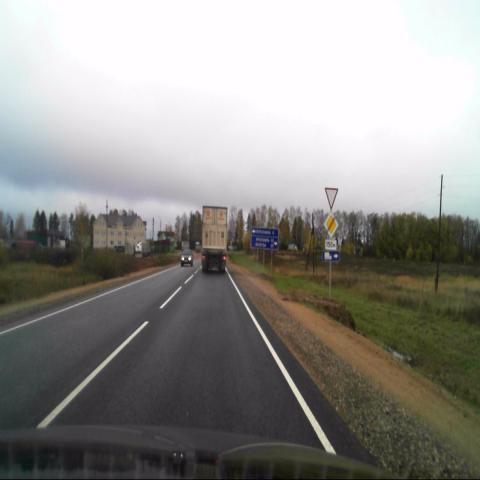2_2: (323, 212, 339, 240)
